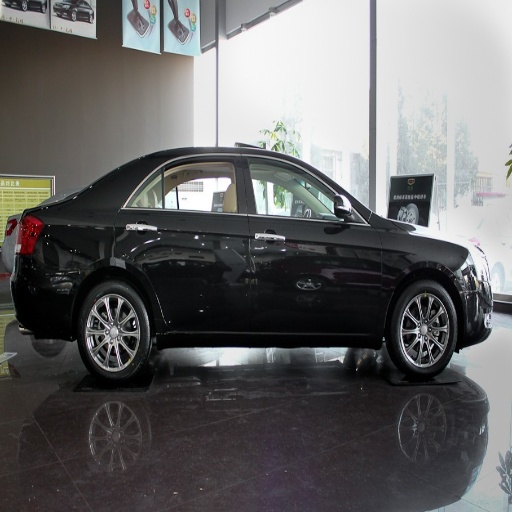back_right_door: (119, 153, 256, 328)
